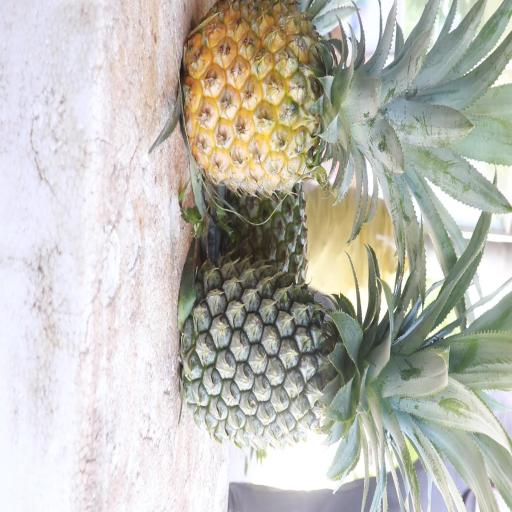Pineapple - v8 v1: (176, 1, 434, 204)
